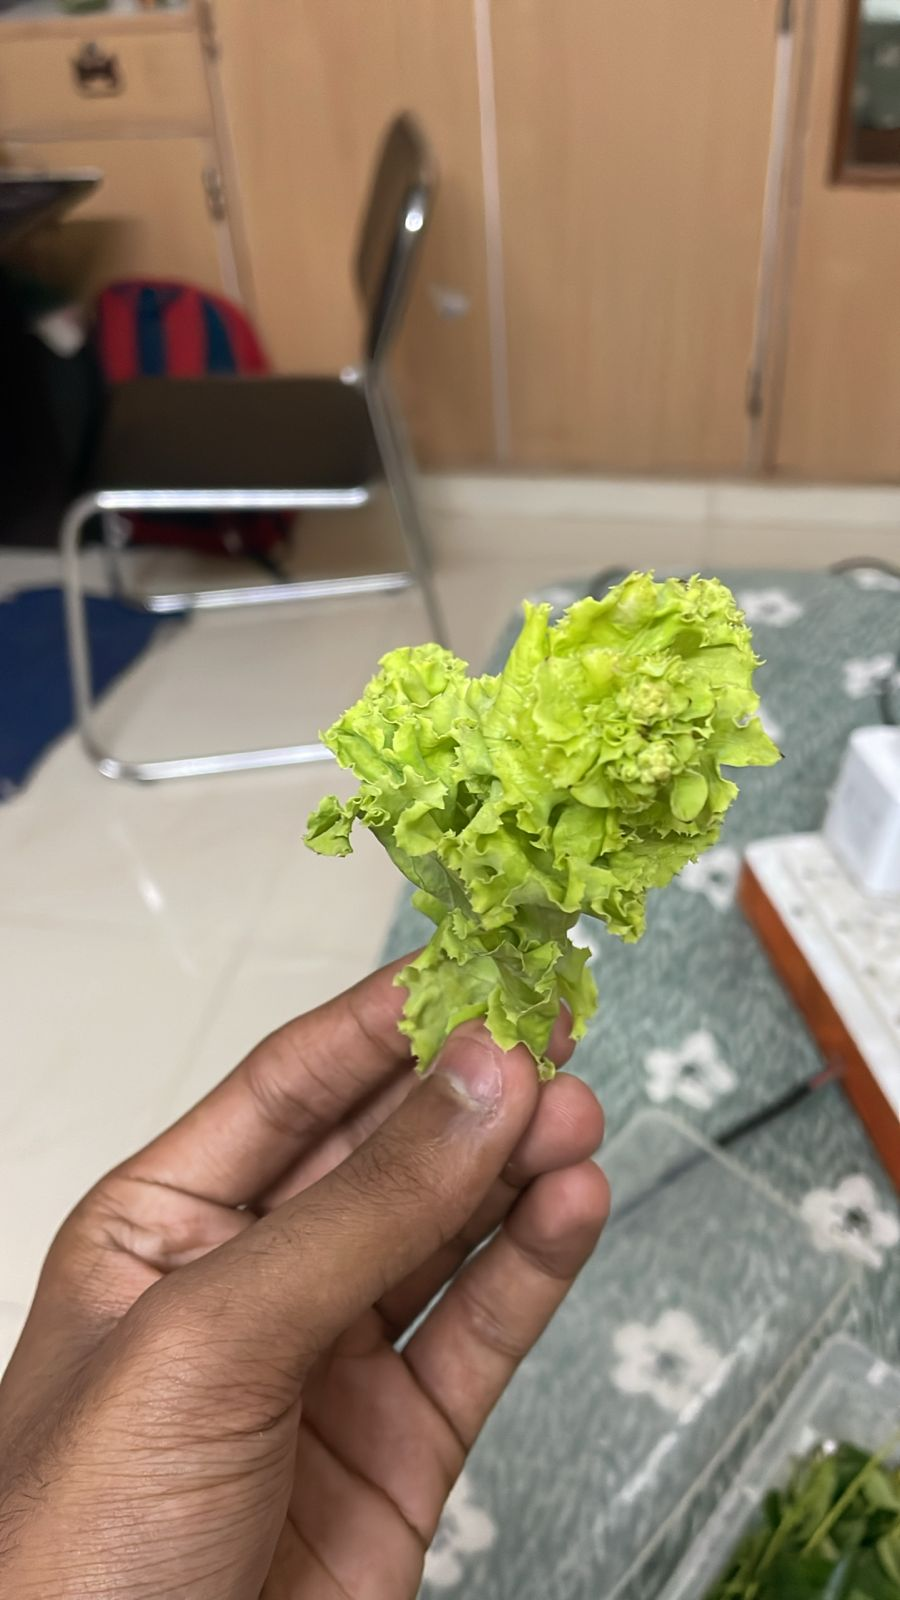wet: (246, 595, 773, 1046)
